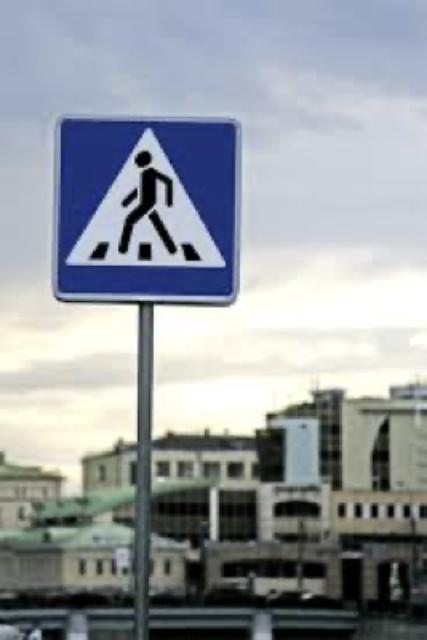crosswalk-sign: (51, 115, 243, 305)
